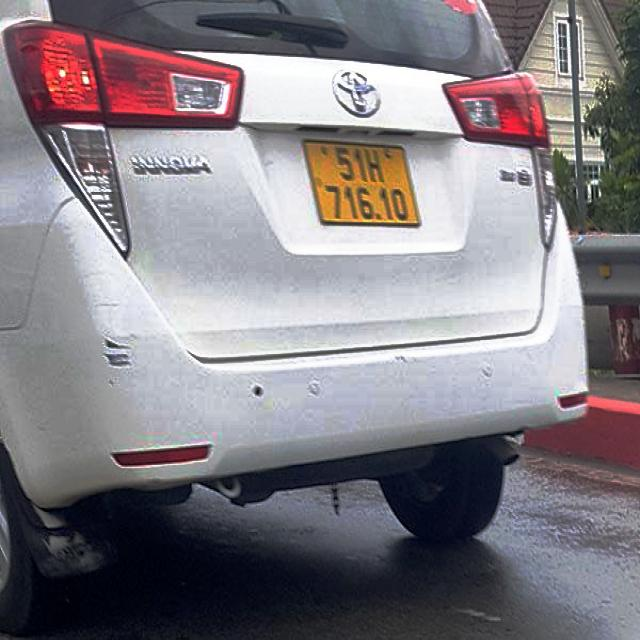license_plate: (304, 141, 422, 228)
